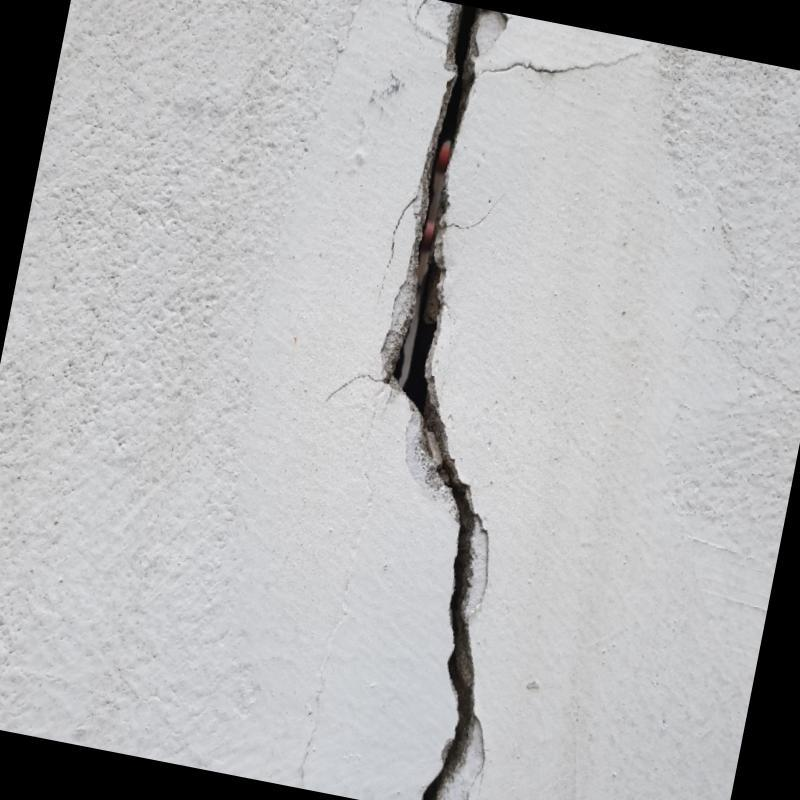pothole: (392, 4, 481, 800)
